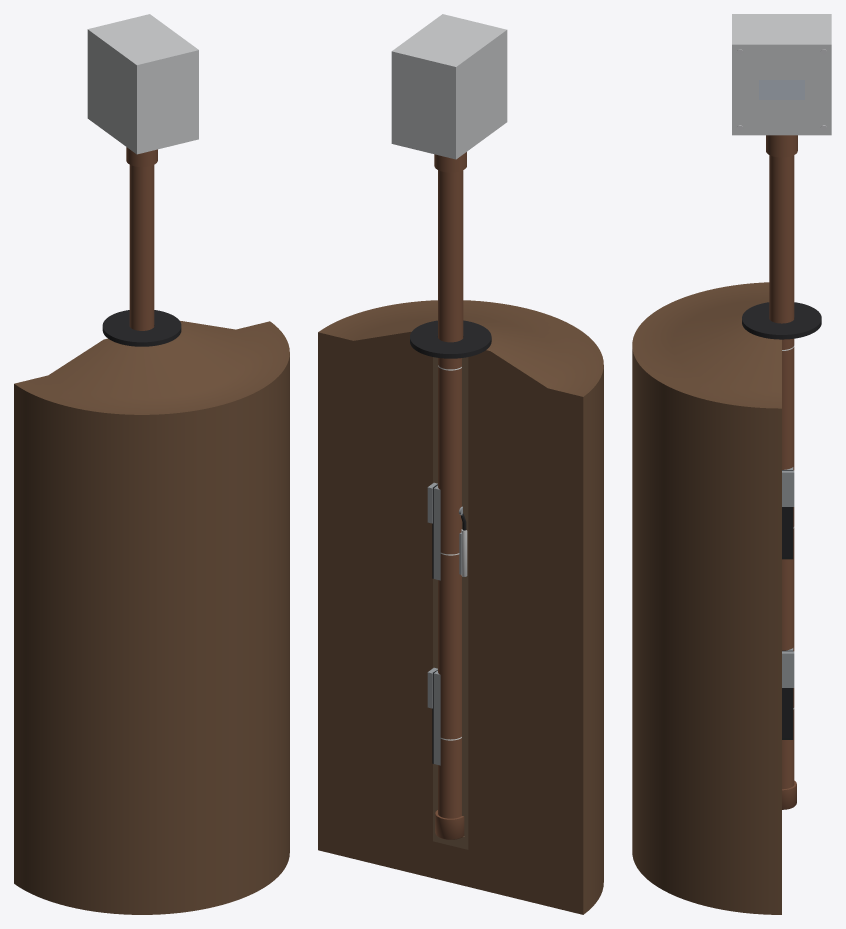
Rendered from estaca-m1.glb.
3 views of the same model, side by side, from view 1: azimuth 30°, elevation 25°; view 2: azimuth 150°, elevation 25°; view 3: azimuth 270°, elevation 25° (orthographic). The views are drawn at different scales.
Parts seen in each view (by area): view 1: Solo não mexido, em corte (furo de trado Ø 40 × 520, montícu, Caixa de passagem com vedação, corpo, Tubo de PVC soldável 25 mm, Colar de EVA Ø 80; view 2: Solo não mexido, em corte (furo de trado Ø 40 × 520, montícu, Tubo de PVC soldável 25 mm, Caixa de passagem com vedação, corpo, Lama do próprio solo, peneirado, em corte, Colar de EVA Ø 80, Massa epóxi do sensor S2 (40 cm), Massa epóxi do sensor S1 (20 cm), Cap de PVC soldável 25 mm; view 3: Solo não mexido, em corte (furo de trado Ø 40 × 520, montícu, Tampa da caixa, com vedação e quatro parafusos, Tubo de PVC soldável 25 mm, Caixa de passagem com vedação, corpo, Colar de EVA Ø 80, Adaptador soldável com flange 25 mm, porca e anel de vedação, Sensor capacitivo de umidade v2.0 S1 (20 cm), Sensor capacitivo de umidade v2.0 S2 (40 cm), Massa epóxi do sensor S1 (20 cm), Massa epóxi do sensor S2 (40 cm).
Part boxes in pixels (<box>): Solo não mexido, em corte (furo de trado Ø 40 × 520, montícu: <box>14,321,289,914</box>; Caixa de passagem com vedação, corpo: <box>87,14,196,154</box>; Tubo de PVC soldável 25 mm: <box>129,165,154,330</box>; Colar de EVA Ø 80: <box>102,310,181,346</box>; Solo não mexido, em corte (furo de trado Ø 40 × 520, montícu: <box>318,300,603,914</box>; Tubo de PVC soldável 25 mm: <box>438,170,463,818</box>; Caixa de passagem com vedação, corpo: <box>394,14,507,159</box>; Lama do próprio solo, peneirado, em corte: <box>433,357,468,849</box>; Colar de EVA Ø 80: <box>410,320,491,358</box>; Massa epóxi do sensor S2 (40 cm): <box>427,667,440,765</box>; Massa epóxi do sensor S1 (20 cm): <box>427,482,440,580</box>; Cap de PVC soldável 25 mm: <box>435,810,464,839</box>; Solo não mexido, em corte (furo de trado Ø 40 × 520, montícu: <box>632,282,781,914</box>; Tampa da caixa, com vedação e quatro parafusos: <box>732,43,831,135</box>; Tubo de PVC soldável 25 mm: <box>769,155,794,789</box>; Caixa de passagem com vedação, corpo: <box>732,14,831,43</box>; Colar de EVA Ø 80: <box>742,302,821,339</box>; Adaptador soldável com flange 25 mm, porca e anel de vedação: <box>766,135,797,157</box>; Sensor capacitivo de umidade v2.0 S1 (20 cm): <box>782,470,793,559</box>; Sensor capacitivo de umidade v2.0 S2 (40 cm): <box>782,650,793,739</box>; Massa epóxi do sensor S1 (20 cm): <box>782,467,794,506</box>; Massa epóxi do sensor S2 (40 cm): <box>782,648,794,687</box>.
Size of the model in its own units: 0.3 by 0.91 by 0.2.
